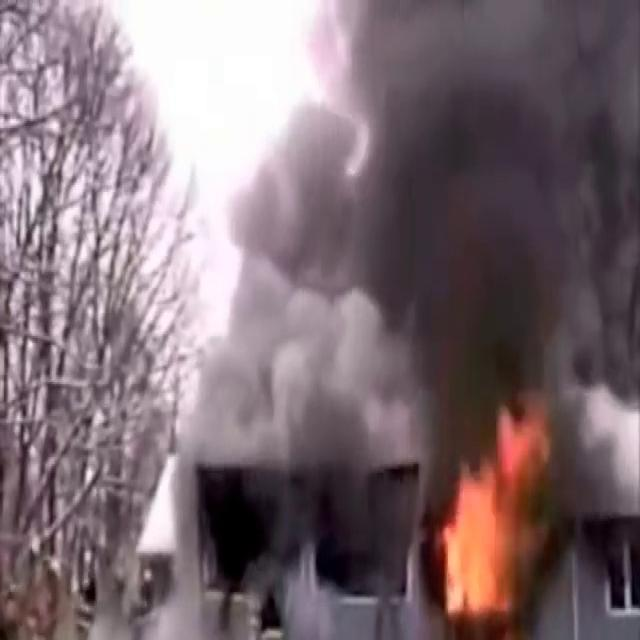Fire: (433, 434, 533, 634)
Smoke: (181, 1, 640, 591)
